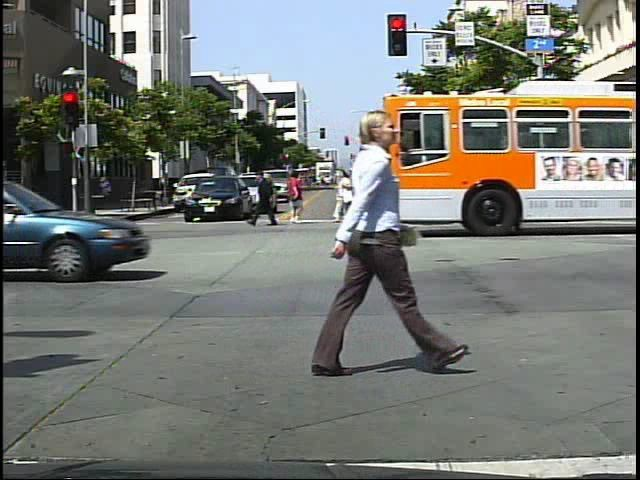person: (293, 86, 422, 385), (339, 164, 370, 229), (254, 166, 280, 232), (282, 167, 309, 228), (550, 160, 573, 211)
